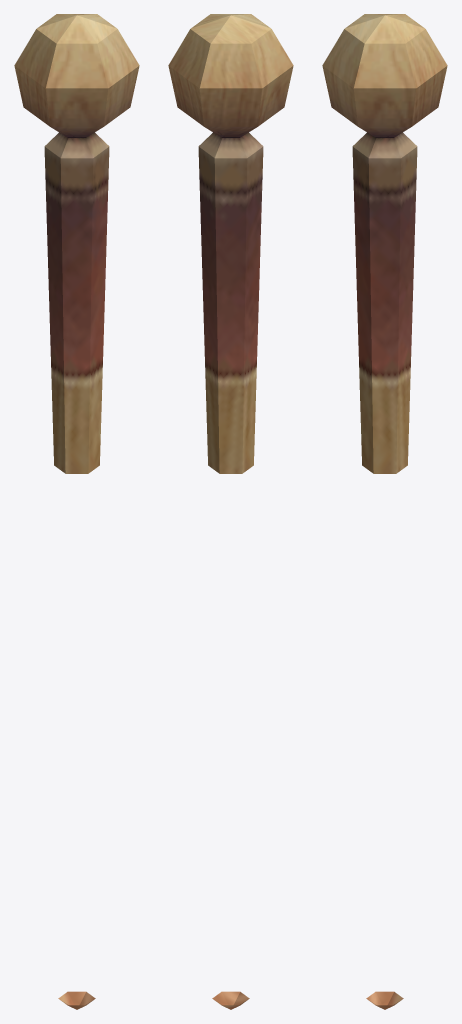
File: Bat_noviceWand.obj
3 renders of one model, left to right at view 1: azimuth 90°, elevation 25°; view 2: azimuth 150°, elevation 25°; view 3: azimuth 270°, elevation 25°, orthographic.
Visible parts, largest first — view 1: Bat_noviceWand_tri; view 2: Bat_noviceWand_tri; view 3: Bat_noviceWand_tri.
Boxes of the visible parts, x1=… form: Bat_noviceWand_tri: x1=14, y1=14, x2=139, y2=1009; Bat_noviceWand_tri: x1=168, y1=14, x2=293, y2=1009; Bat_noviceWand_tri: x1=322, y1=14, x2=447, y2=1009.
Size of the model in its own units: 0.0518 by 0.5243 by 0.0598.
Materials: 1 (1 with a texture image).
